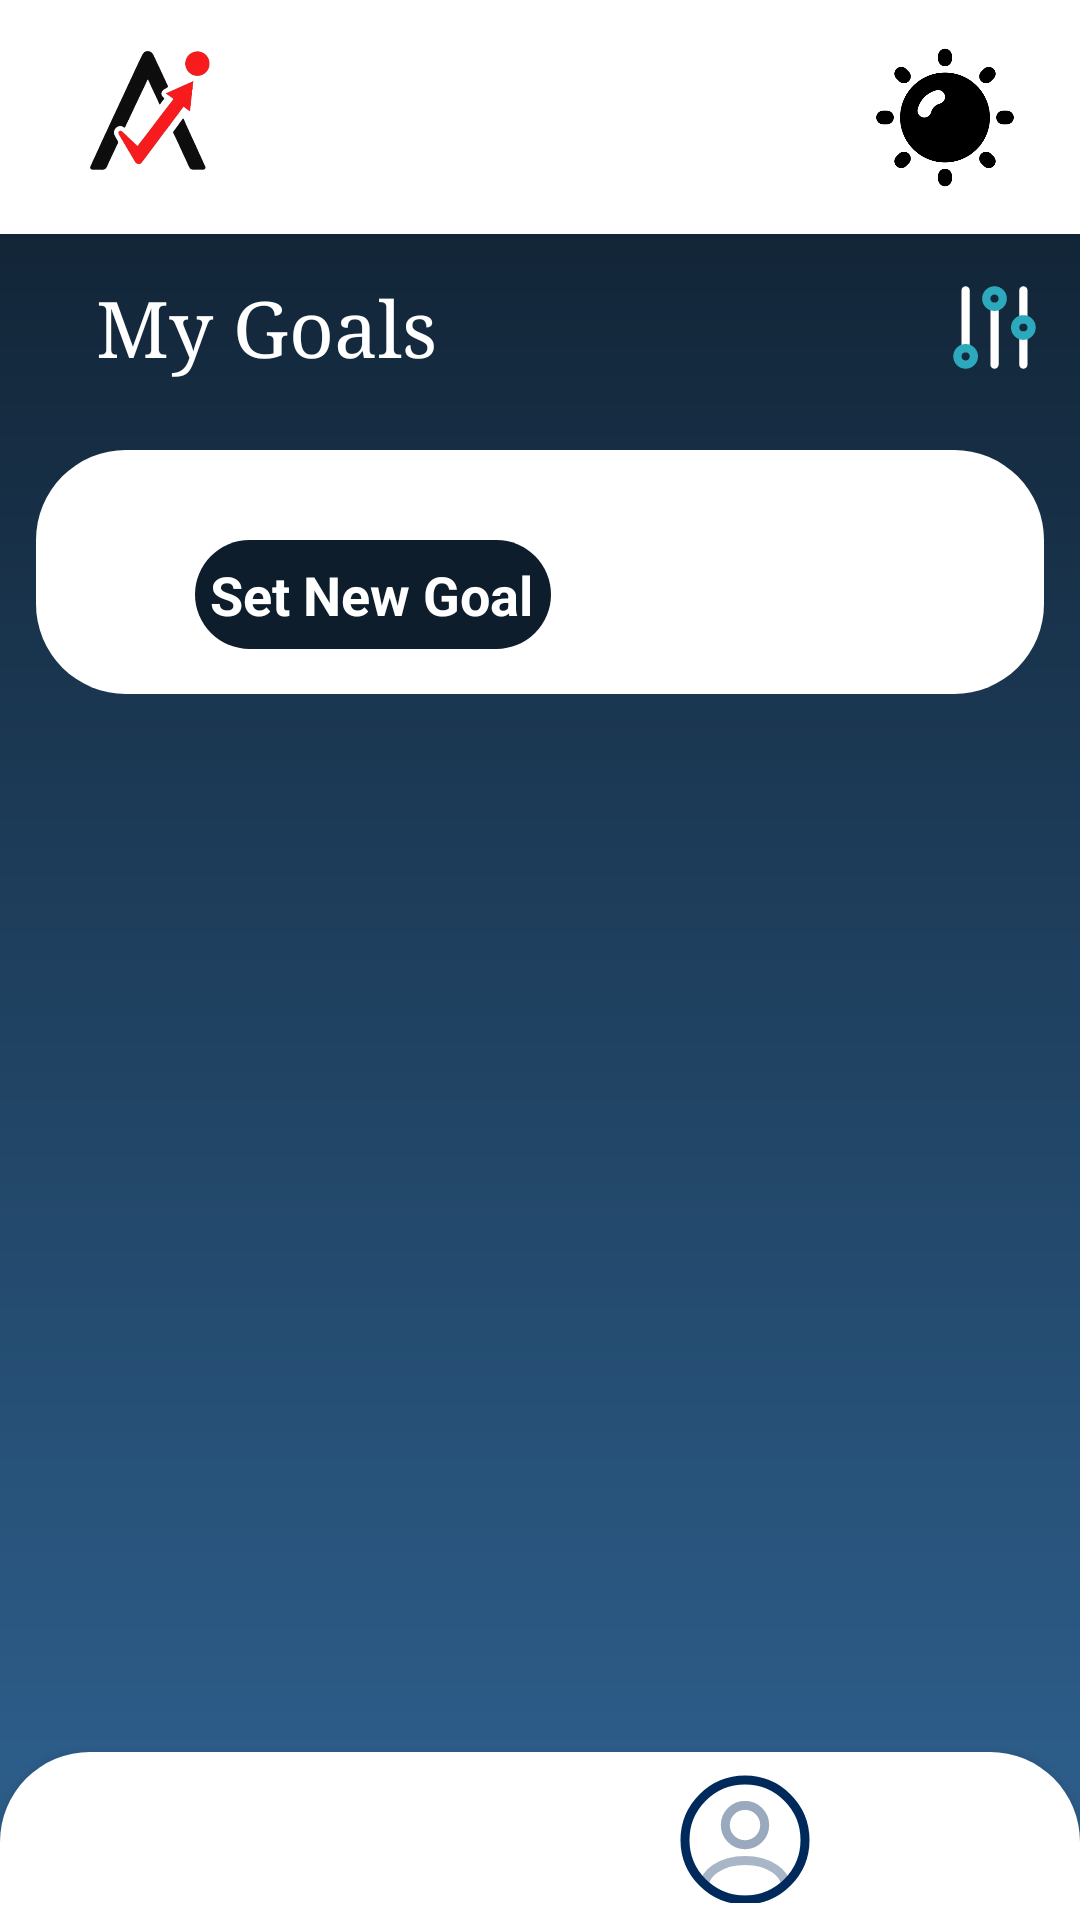

Icon bounding boxes for this 1080 × 1920 phone screenshot, format (x1, y1, x2, y2):
filter: (953, 286, 1036, 369)
profile: (680, 1775, 810, 1903)
summer: (876, 48, 1014, 187)
